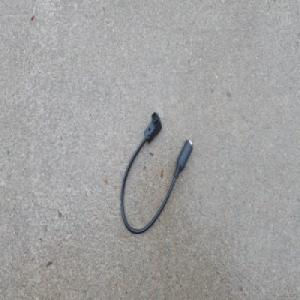Wire: (119, 108, 194, 237)
